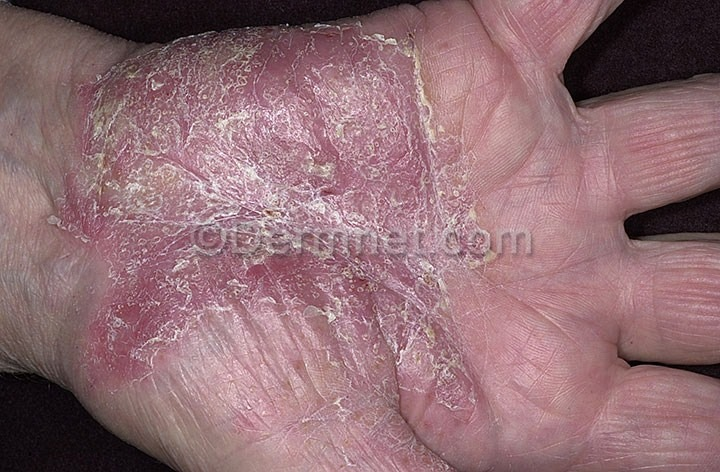Psoriasis: (74, 28, 507, 468)
